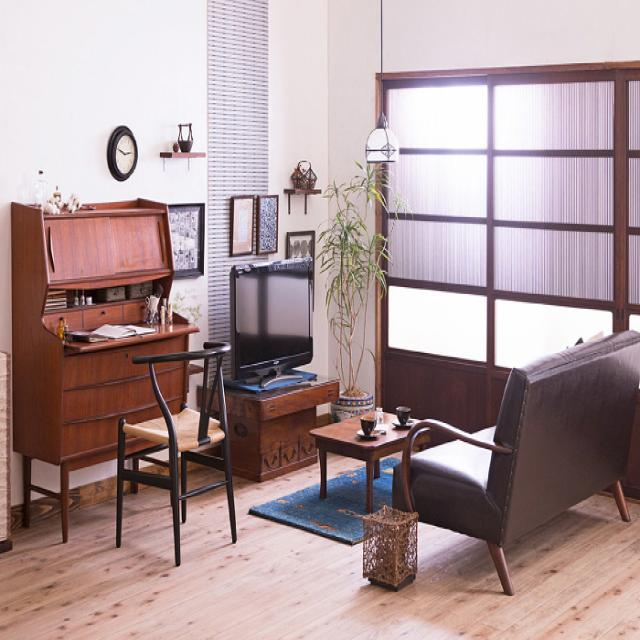vintage chair: (120, 336, 242, 572)
vintage desk: (314, 404, 392, 510)
vintage shelf: (13, 196, 187, 404)
vintage sofa: (395, 331, 640, 588)
